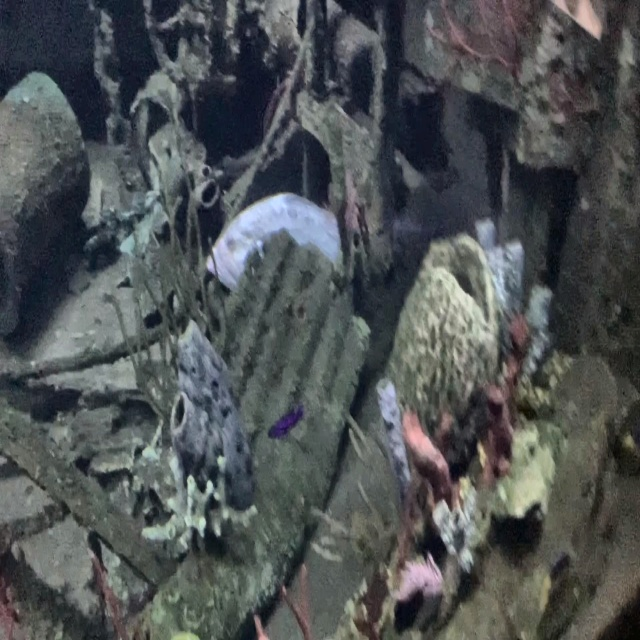fish: (200, 187, 345, 295), (409, 407, 449, 443)
